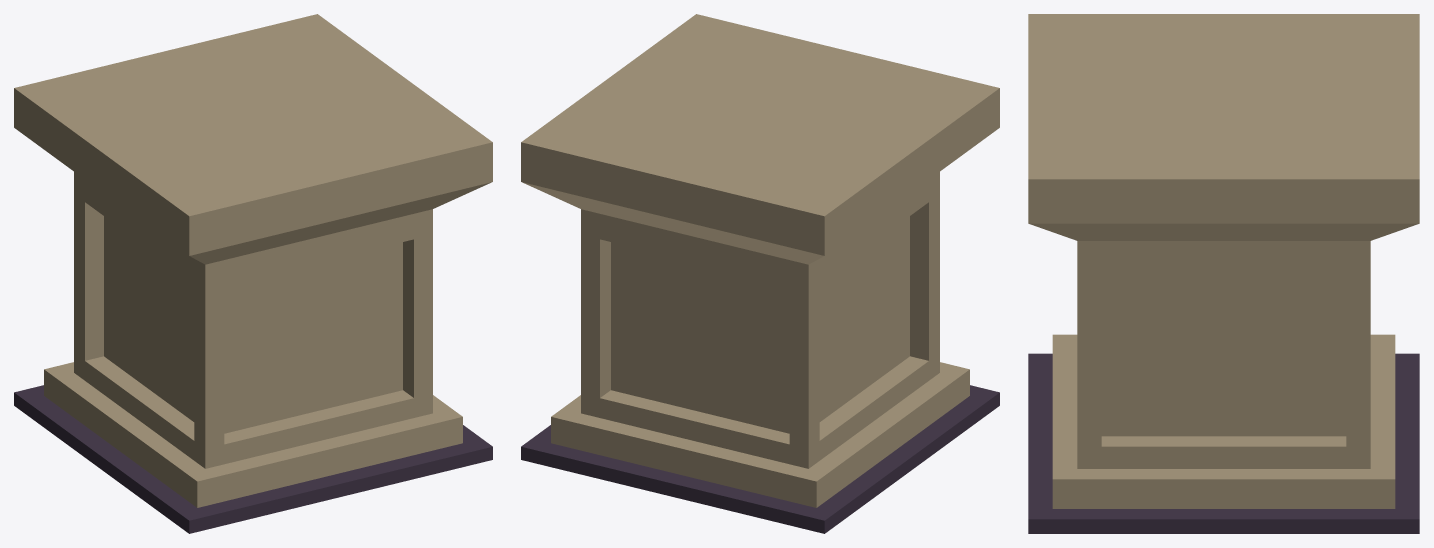
Rendered from pedestal1.dae.
3 views of the same model, side by side, from view 1: azimuth 30°, elevation 25°; view 2: azimuth 150°, elevation 25°; view 3: azimuth 270°, elevation 25° (orthographic). The views are drawn at different scales.
Visible parts, largest first — view 1: pedestal1_MSH; view 2: pedestal1_MSH; view 3: pedestal1_MSH.
Part boxes in pixels (x1,y1,x2,y2): pedestal1_MSH: [14, 14, 492, 533]; pedestal1_MSH: [521, 14, 999, 533]; pedestal1_MSH: [1028, 14, 1419, 533].
Size of the model in its own units: 1 by 1 by 1.
